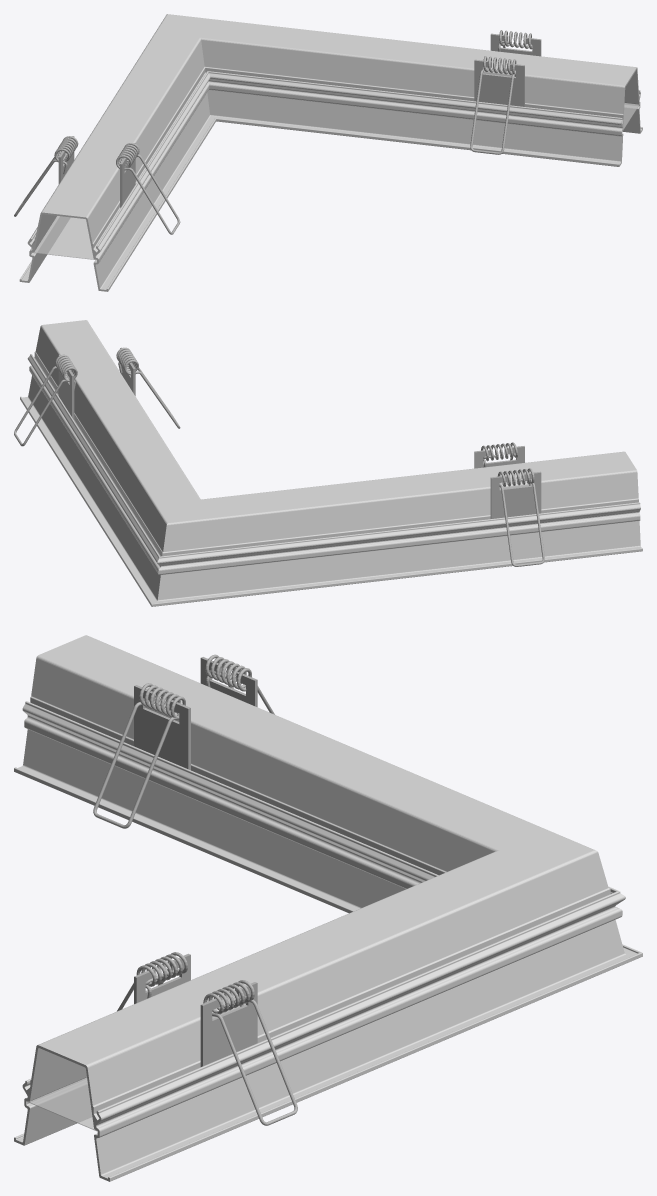
The model's file is Fit30Embutido-curva-direita-esquerda.glb.
The picture shows the model from 3 angles, top to bottom: view 1: azimuth 30°, elevation 25°; view 2: azimuth 150°, elevation 25°; view 3: azimuth 270°, elevation 25°; orthographic projection. The views are drawn at different scales.
Visible parts, largest first — view 1: Geom3D (×10); view 2: Geom3D (×9); view 3: Geom3D (×11).
Boxes of the visible parts, x1=… form: Geom3D (×10): x1=14, y1=14, x2=642, y2=291; Geom3D (×9): x1=14, y1=320, x2=642, y2=606; Geom3D (×11): x1=14, y1=635, x2=642, y2=1181.
Size of what is drawn, in the model's own units: 0.3536 by 0.0483 by 0.2086.
Materials: 3 (1 with a texture image).
